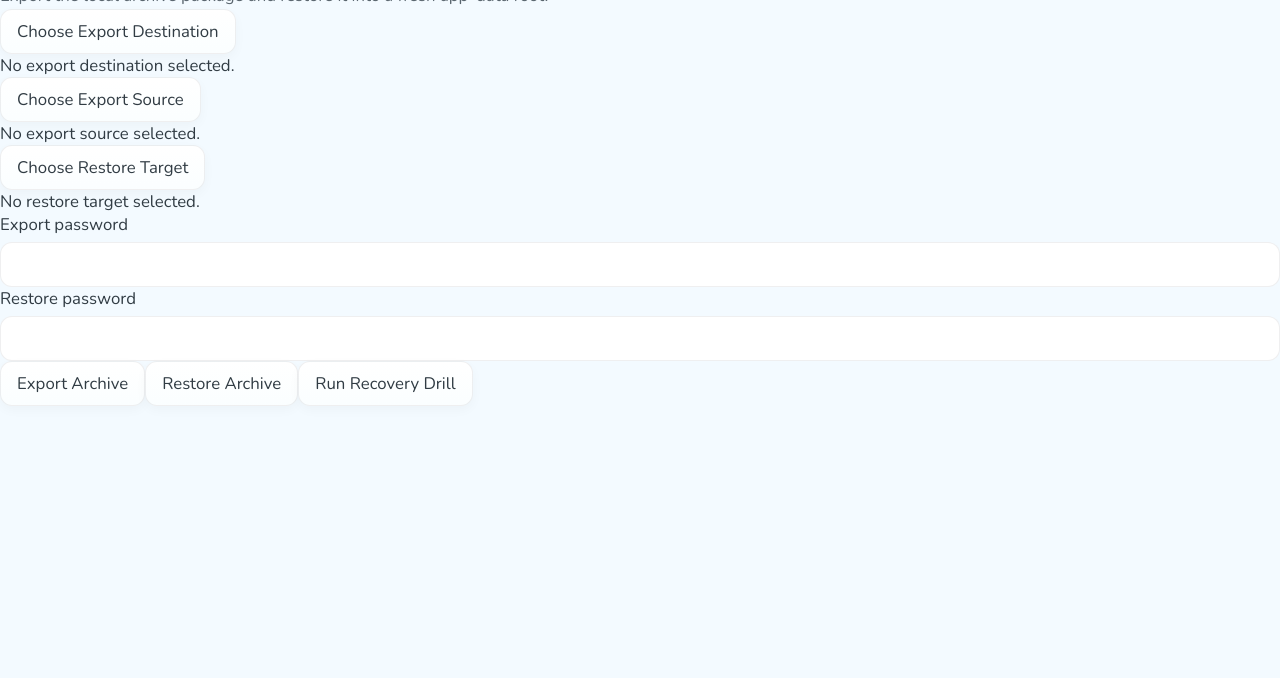
PreservationPage › runs a recovery drill and renders failed-check details
Click the button "Run Recovery Drill". click: {"x": 385, "y": 384}
box: [298, 361, 473, 406]
(page scrolled)
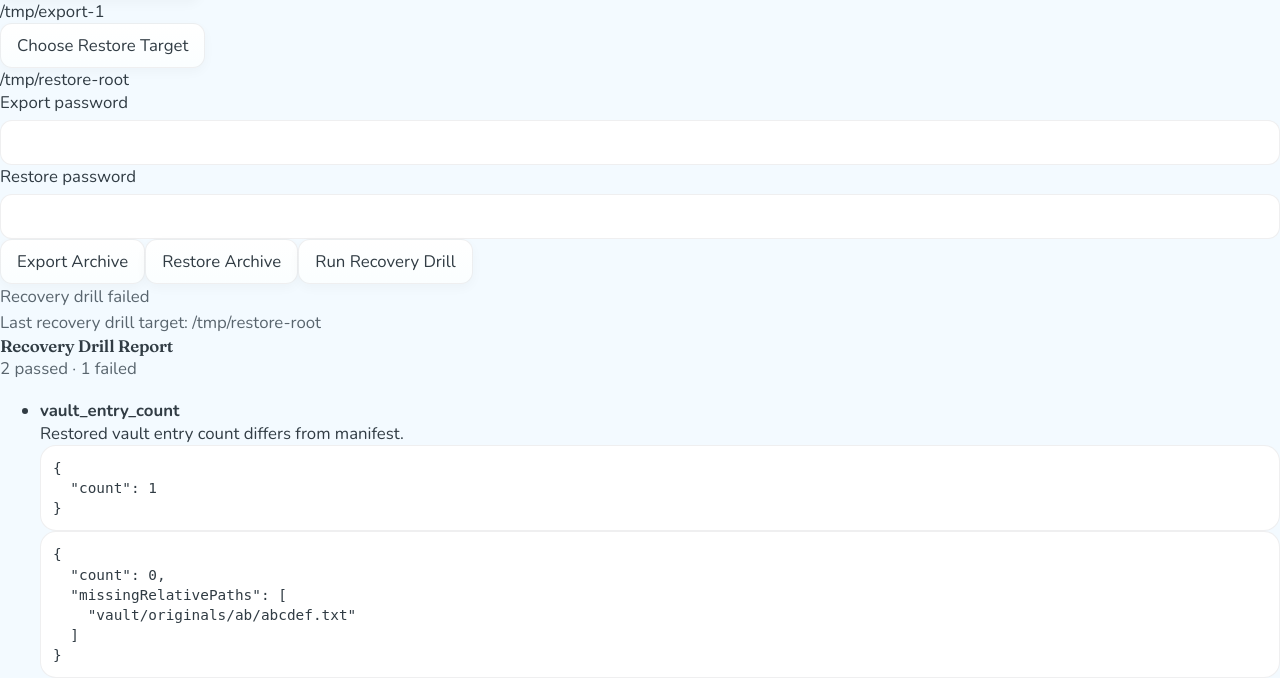
Now the text "Recovery drill failed" is shown, box [0, 285, 150, 308]
Now the text "vault_entry_count" is shown, box [40, 399, 180, 422]
Now the text "missingRelativePaths" is shown, box [53, 546, 356, 663]
